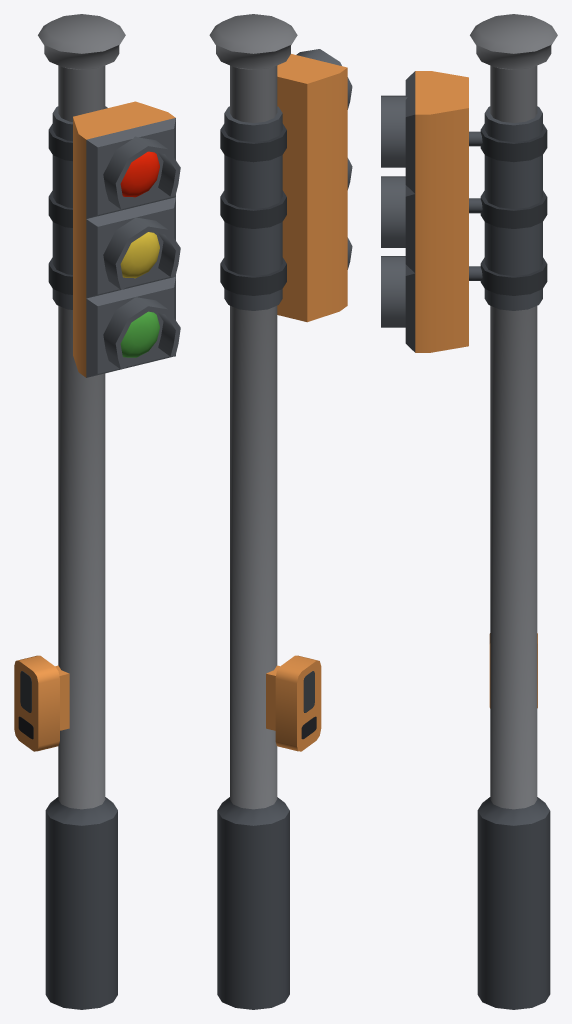
File: Traffic Light_1.fbx
3 views of the same model, side by side, from view 1: azimuth 30°, elevation 25°; view 2: azimuth 150°, elevation 25°; view 3: azimuth 270°, elevation 25° (orthographic).
Visible parts, largest first — view 1: Traffic Light_1; view 2: Traffic Light_1; view 3: Traffic Light_1.
Part boxes in pixels (<box>): Traffic Light_1: <box>14,14,180,1009</box>; Traffic Light_1: <box>209,14,352,1009</box>; Traffic Light_1: <box>381,14,557,1009</box>.
Bounding box in the file's own units: 30.37 × 279 × 46.26.
